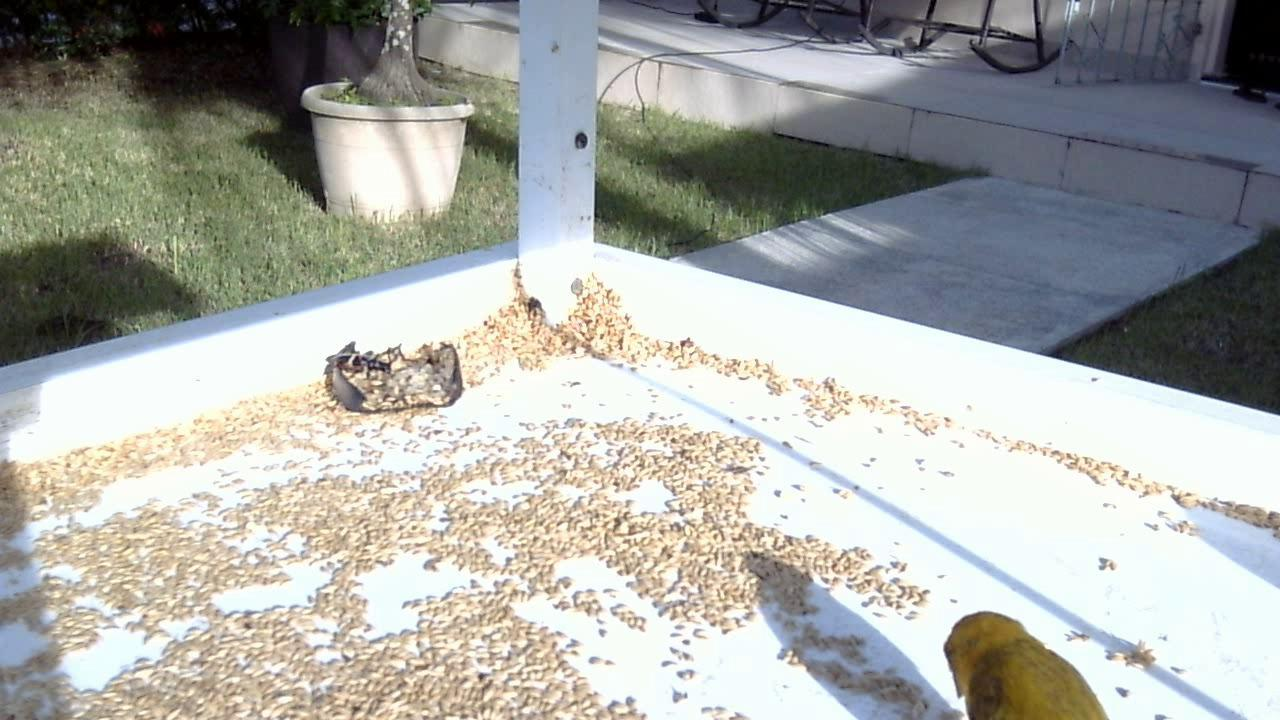canario_do_amazonas: (923, 595, 1128, 720)
